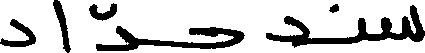X: (97, 0, 136, 52), (382, 0, 424, 46), (267, 11, 307, 52), (190, 22, 241, 52), (0, 14, 34, 51), (53, 0, 69, 52), (359, 13, 364, 46)
